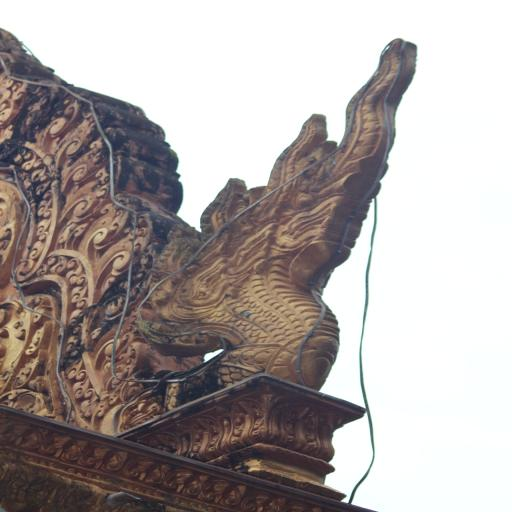lua: (94, 233, 158, 284), (52, 175, 121, 222), (81, 204, 132, 252), (56, 144, 106, 185), (36, 107, 86, 144), (56, 121, 100, 163), (10, 355, 46, 388), (26, 326, 52, 356), (69, 378, 92, 400), (68, 256, 86, 284), (68, 282, 87, 308), (28, 216, 52, 235), (30, 198, 54, 216), (32, 255, 52, 275), (49, 252, 66, 274), (62, 360, 81, 378), (24, 240, 42, 258), (21, 154, 41, 170), (26, 166, 46, 182), (31, 184, 50, 197)
ran: (130, 38, 428, 383)
